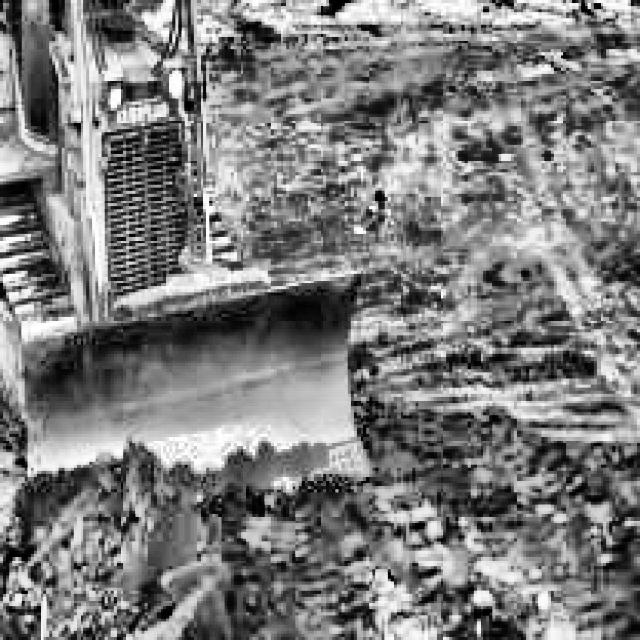buldozerpayloadergrader: (0, 0, 372, 511)
